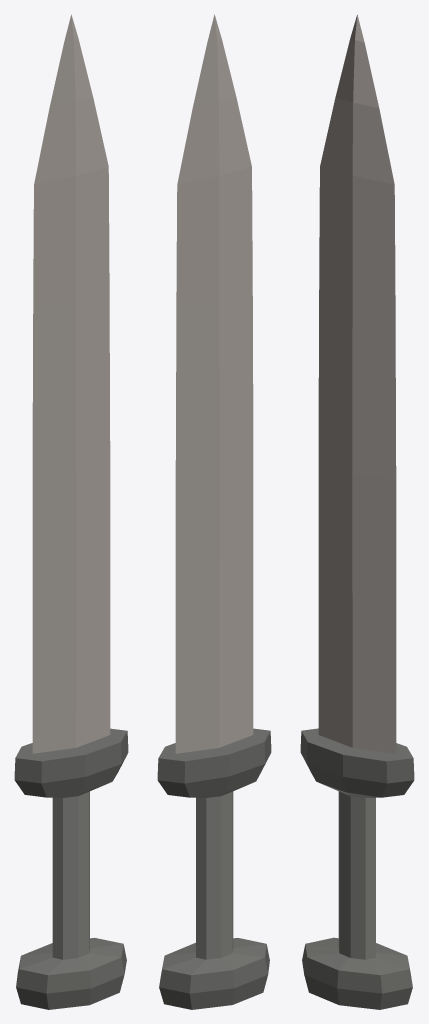
File: SM_pwe_rome_sword_01.fbx
3 views of the same model, side by side, from view 1: azimuth 30°, elevation 25°; view 2: azimuth 210°, elevation 25°; view 3: azimuth 330°, elevation 25° (orthographic).
Parts seen in each view (by area): view 1: SM_pwe_rome_sword_01; view 2: SM_pwe_rome_sword_01; view 3: SM_pwe_rome_sword_01.
Boxes of the visible parts, box(x1,y1,x2,y2) form: SM_pwe_rome_sword_01: box(14, 14, 128, 1009); SM_pwe_rome_sword_01: box(157, 14, 271, 1009); SM_pwe_rome_sword_01: box(300, 14, 414, 1009).
Size of the model in its own units: 10.38 by 85.08 by 6.29.
